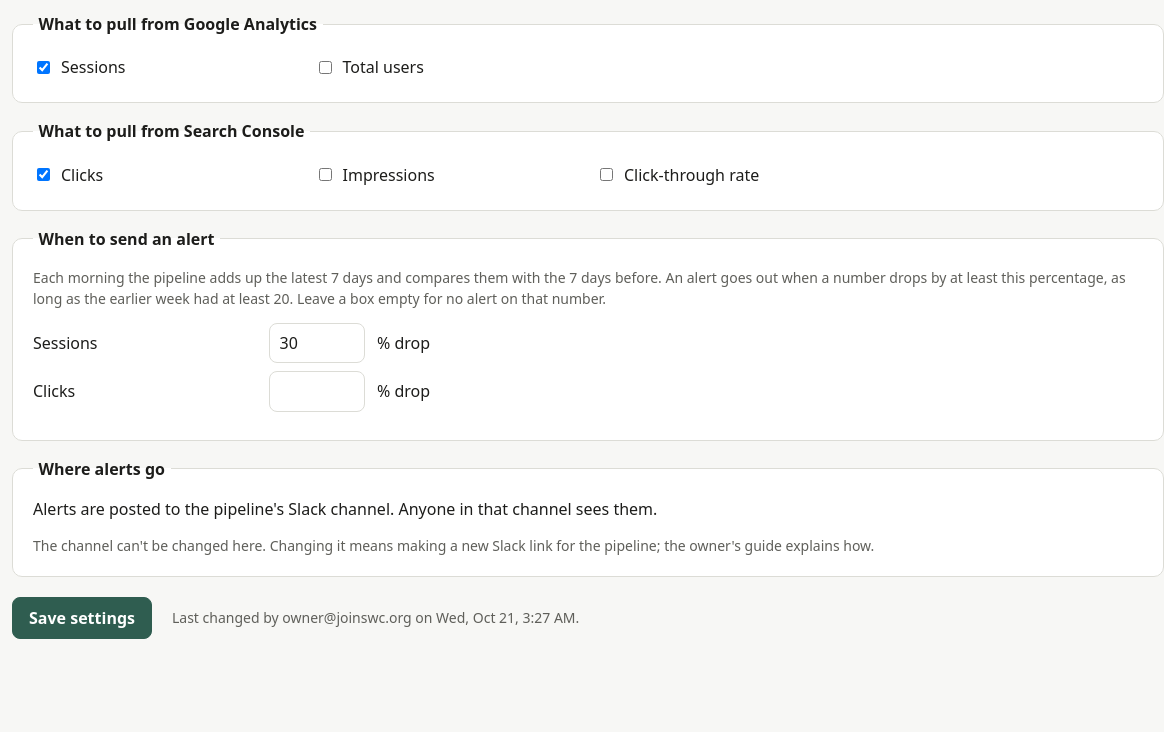
Scenario: Settings page › offers a reload when someone else saved first
Expected: the checkbox labelled "Sessions" is shown, [37, 61, 50, 74]
Click the button "Save settings": (82, 618) [12, 596, 152, 638]
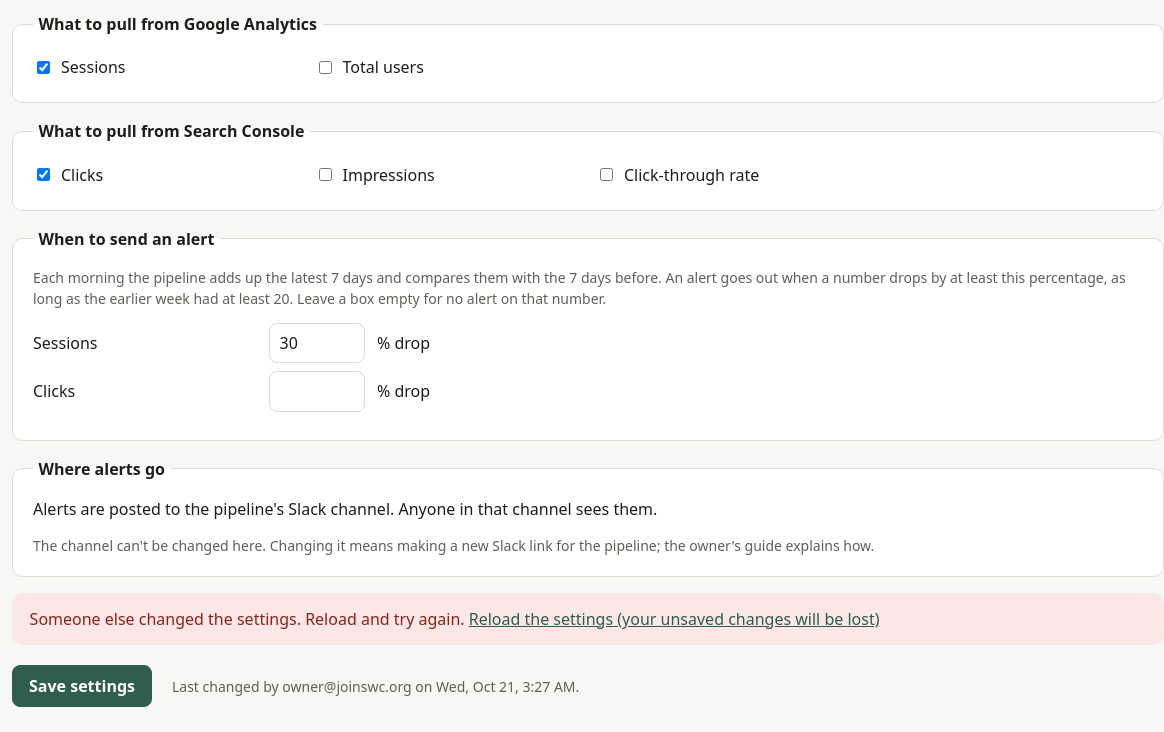
Expected: the message shows "Someone else changed the settings.", [30, 608, 465, 630]
Expected: the button "Reload the settings (your unsaved changes will be lost)" is shown, [469, 607, 880, 631]
